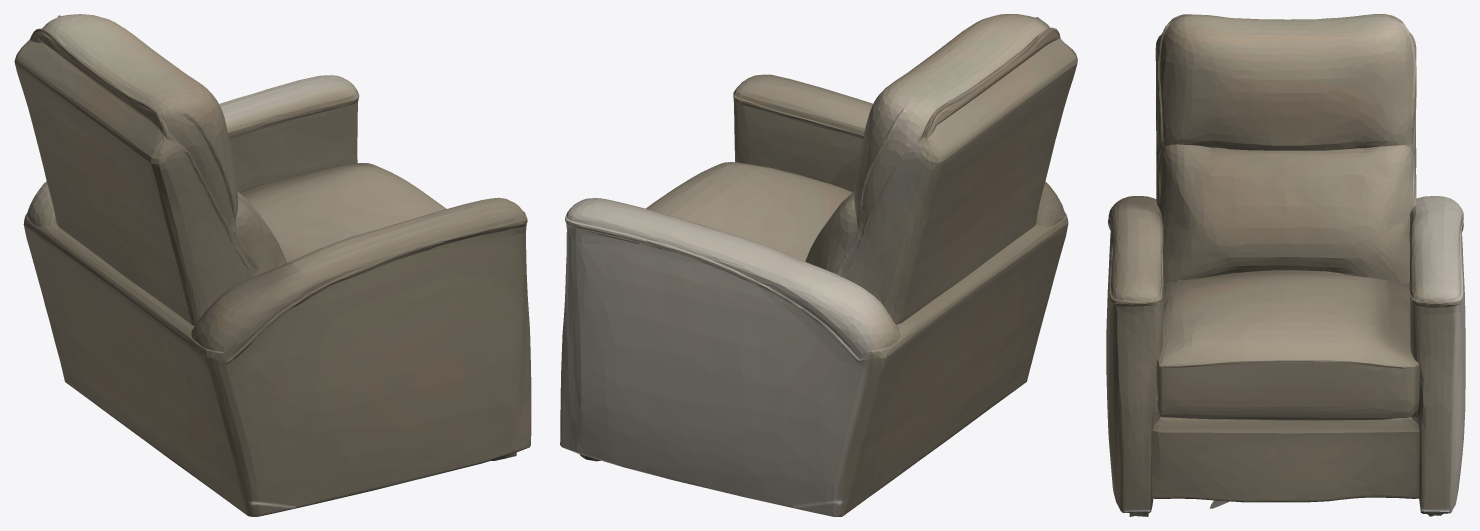
The model's file is lounge_chair_25.obj.
3 renders of one model, left to right at view 1: azimuth 30°, elevation 25°; view 2: azimuth 150°, elevation 25°; view 3: azimuth 270°, elevation 25°, orthographic. The views are drawn at different scales.
Bounding box in the file's own units: 1.02 × 1.1 × 0.983.
Materials: 1 (1 with a texture image).
